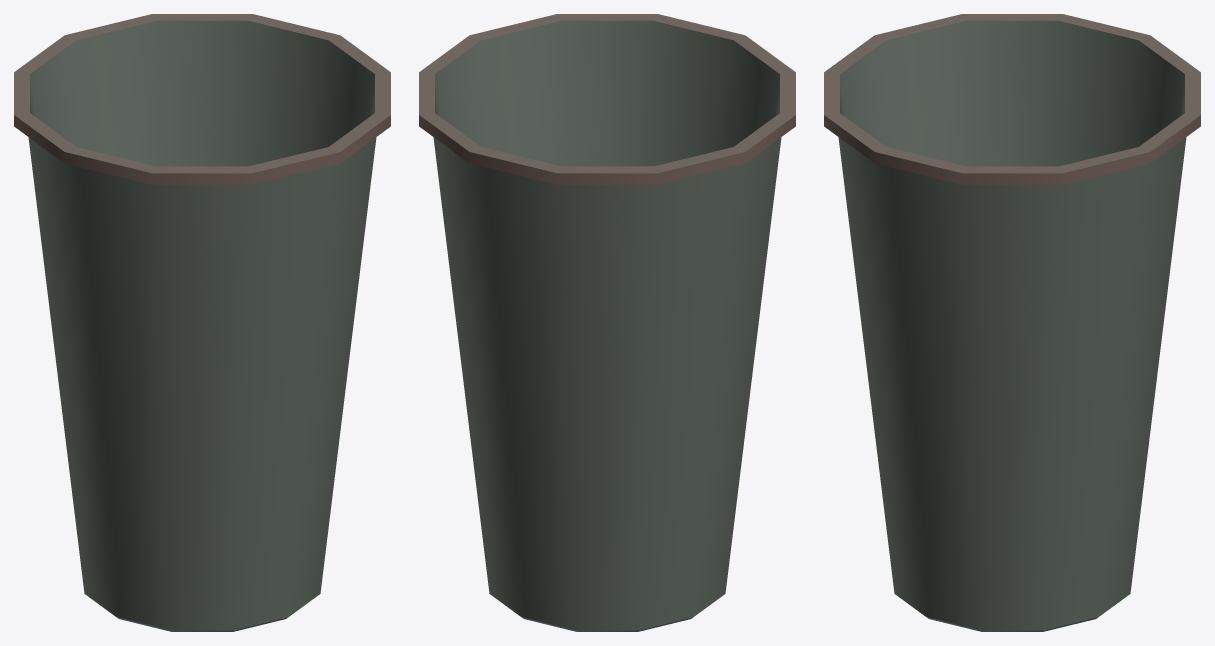
Rendered from kubek.fbx.
3 renders of one model, left to right at view 1: azimuth 30°, elevation 25°; view 2: azimuth 150°, elevation 25°; view 3: azimuth 270°, elevation 25°, orthographic.
Parts seen in each view (by area): view 1: Cylinder; view 2: Cylinder; view 3: Cylinder.
Part boxes in pixels (x1=…): Cylinder: x1=14, y1=14, x2=390, y2=631; Cylinder: x1=419, y1=14, x2=795, y2=631; Cylinder: x1=824, y1=14, x2=1200, y2=631.
Size of the model in its own units: 7.24 by 10.4 by 7.24.
